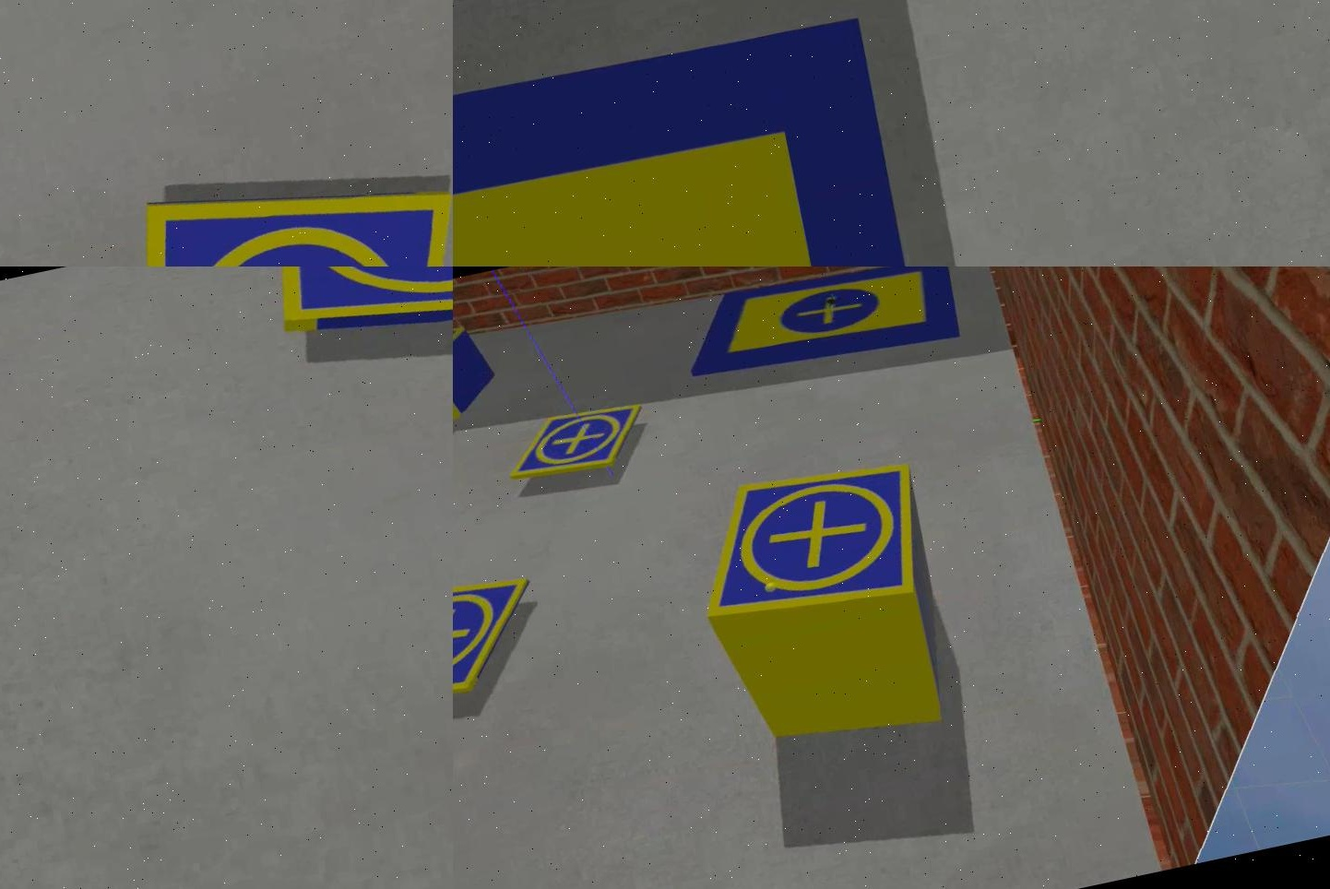large_base: (452, 7, 974, 267), (674, 267, 964, 395)
small_base: (680, 449, 938, 645), (91, 141, 452, 267), (259, 267, 452, 382), (452, 567, 546, 728), (500, 397, 652, 495)
